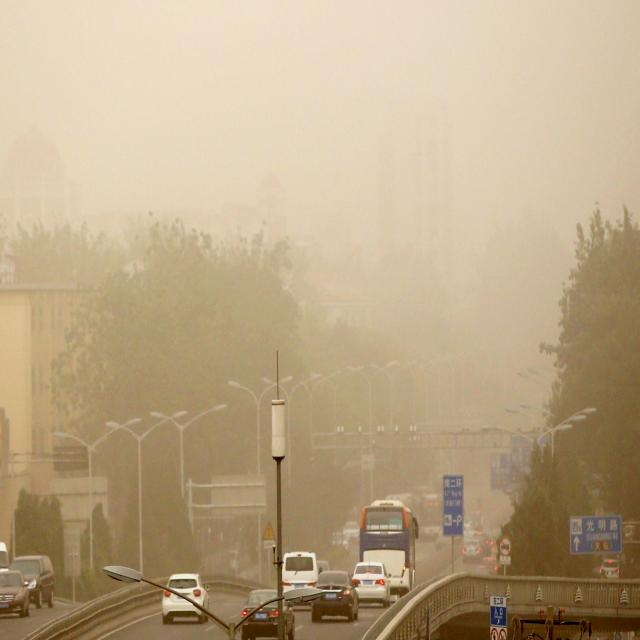Bus: (352, 496, 419, 599)
Car: (158, 565, 215, 626), (239, 588, 296, 640), (11, 553, 55, 616), (307, 567, 356, 618), (352, 556, 394, 610), (0, 564, 32, 618), (596, 555, 626, 581), (460, 536, 486, 563), (343, 517, 362, 546)
Van: (282, 552, 316, 598)
